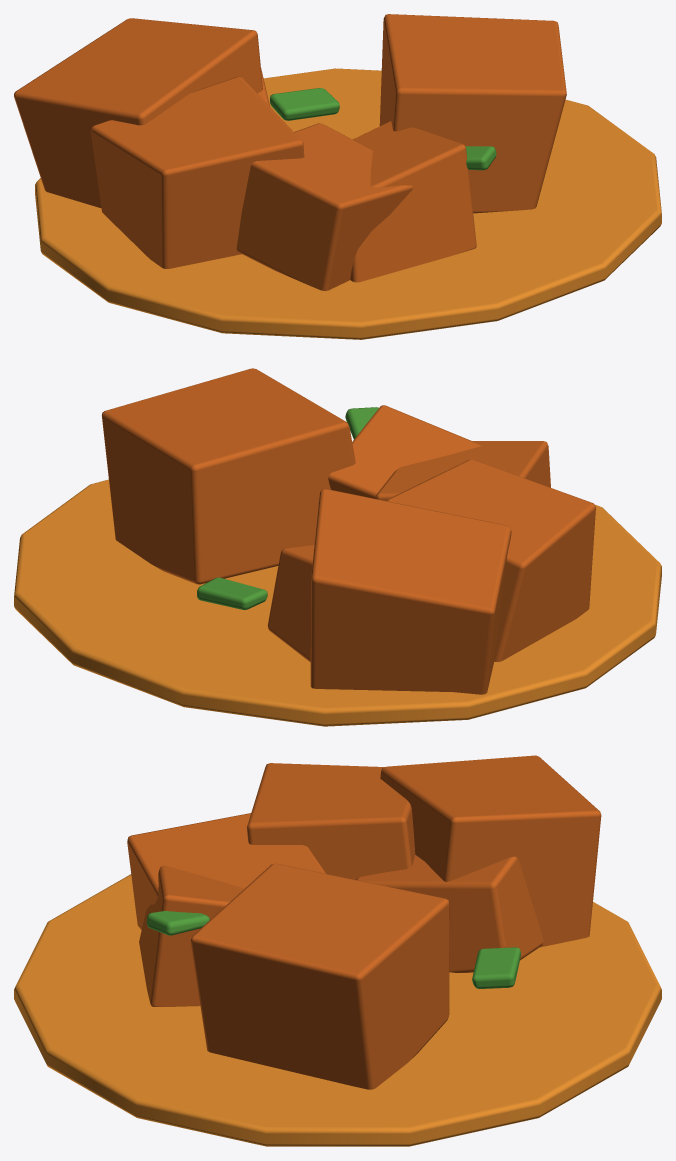
The model's file is Chicken_Cooked.glb.
3 renders of one model, top to bottom at view 1: azimuth 30°, elevation 25°; view 2: azimuth 150°, elevation 25°; view 3: azimuth 270°, elevation 25°, orthographic. The views are drawn at different scales.
Visible parts, largest first — view 1: Chicken_Cooked; view 2: Chicken_Cooked; view 3: Chicken_Cooked.
Boxes of the visible parts, x1,y1,x2,y2 form: Chicken_Cooked: (14,14,661,339); Chicken_Cooked: (14,368,661,726); Chicken_Cooked: (14,755,661,1146).
Size of the model in its own units: 0.1267 by 0.0366 by 0.12.
